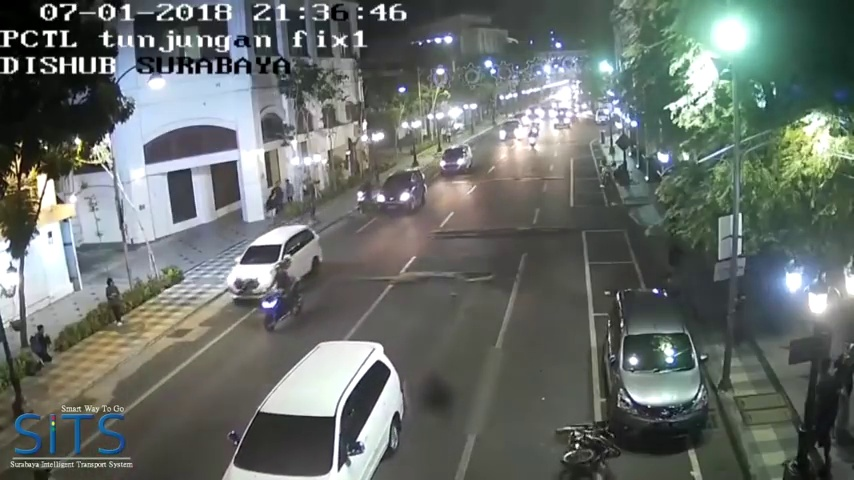car: (218, 337, 405, 480), (597, 286, 709, 452), (232, 222, 325, 302), (378, 169, 427, 211), (443, 143, 470, 175)
motorbike: (258, 267, 307, 332), (356, 182, 371, 209)
